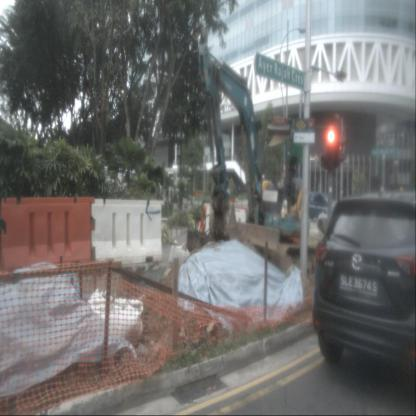movable_object-barrier: (0, 197, 96, 275), (91, 199, 163, 265), (206, 206, 246, 239)
vehicle-car: (312, 190, 416, 381), (296, 191, 338, 223)
